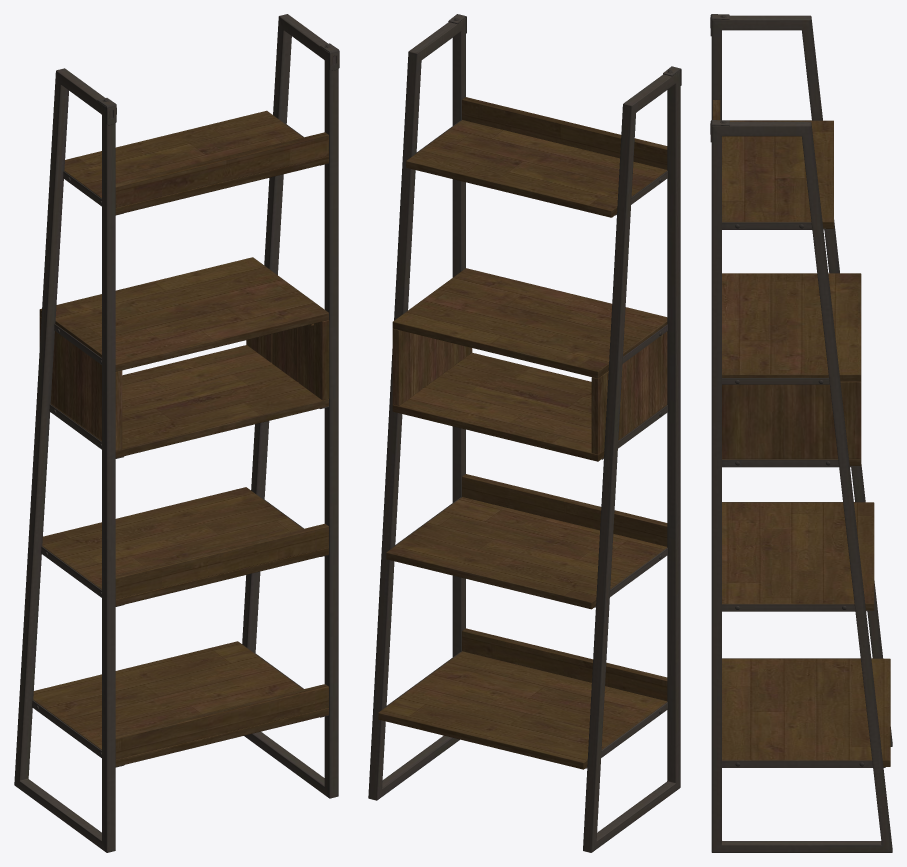
The model's file is abo_B07HSCJZQM.glb.
3 renders of one model, left to right at view 1: azimuth 30°, elevation 25°; view 2: azimuth 150°, elevation 25°; view 3: azimuth 270°, elevation 25°, orthographic. The views are drawn at different scales.
Parts seen in each view (by area): view 1: RootNode; view 2: RootNode; view 3: RootNode.
Part boxes in pixels (x1,y1,x2,y2): RootNode: (14, 14, 339, 852); RootNode: (368, 14, 681, 852); RootNode: (710, 14, 892, 852).
Size of the model in its own units: 0.6522 by 2 by 0.4537.
Materials: 1 (1 with a texture image).
